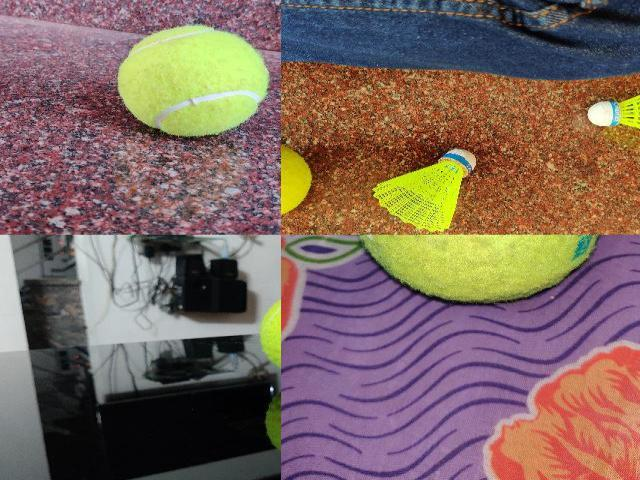tennis-ball: (355, 234, 606, 304), (118, 24, 268, 136), (281, 139, 313, 221), (261, 297, 281, 369), (264, 394, 279, 453)
